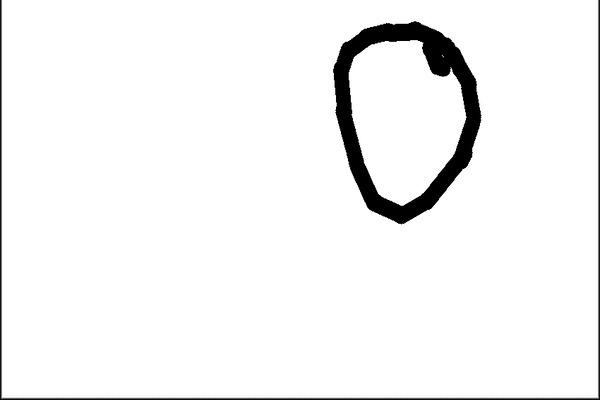O: (319, 20, 487, 231)
